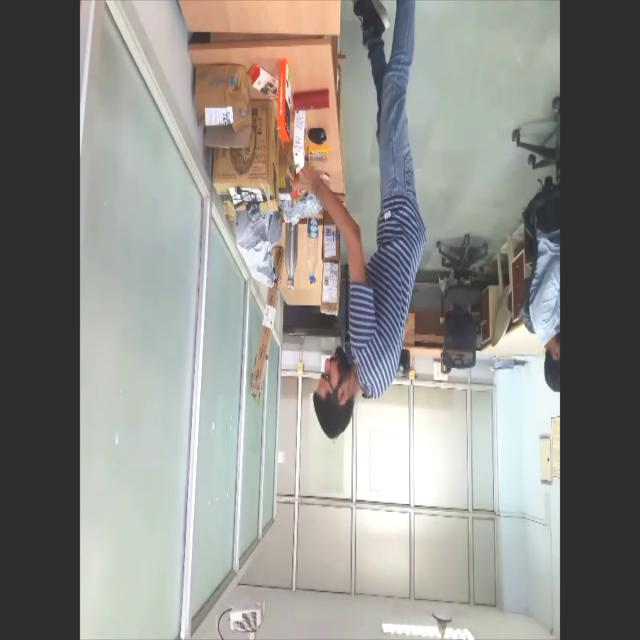normal: (295, 0, 426, 484)
